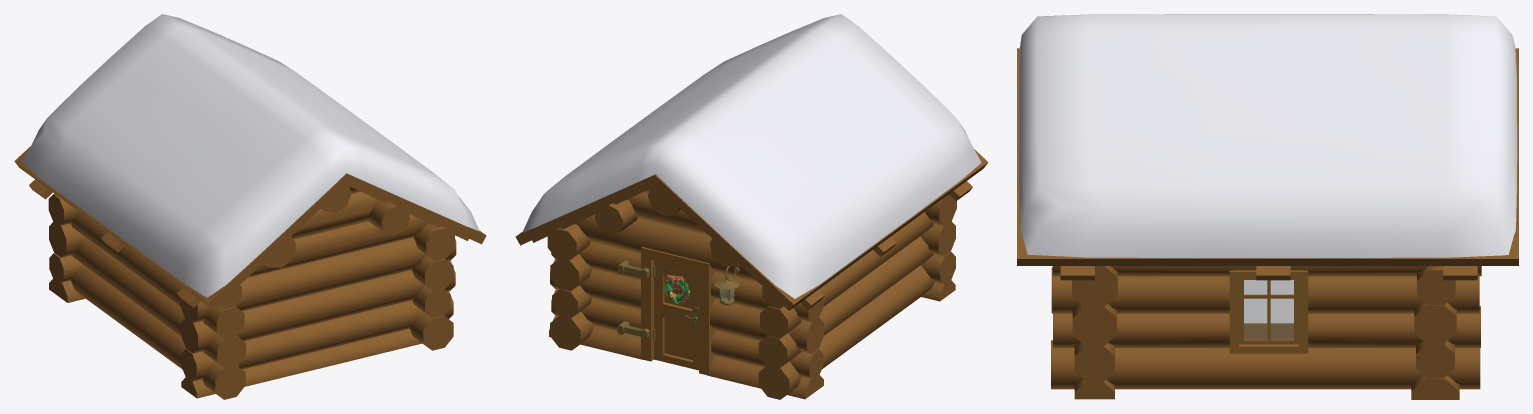
Rendered from winter-house.glb.
3 views of the same model, side by side, from view 1: azimuth 30°, elevation 25°; view 2: azimuth 150°, elevation 25°; view 3: azimuth 270°, elevation 25° (orthographic). The views are drawn at different scales.
Parts seen in each view (by area): view 1: snow_roof, House; view 2: snow_roof, House, Door, Lamp, garland; view 3: snow_roof, House.
Boxes of the visible parts, box(x1,y1,x2,y2) form: snow_roof: box(21, 14, 479, 297); House: box(14, 146, 486, 399); snow_roof: box(522, 14, 981, 298); House: box(515, 149, 988, 399); Door: box(653, 260, 698, 370); Lamp: box(714, 266, 739, 305); garland: box(664, 274, 689, 303); snow_roof: box(1019, 14, 1517, 257); House: box(1017, 48, 1518, 399).
Bounding box in the file's own units: 6.02 × 4.84 × 7.21.
